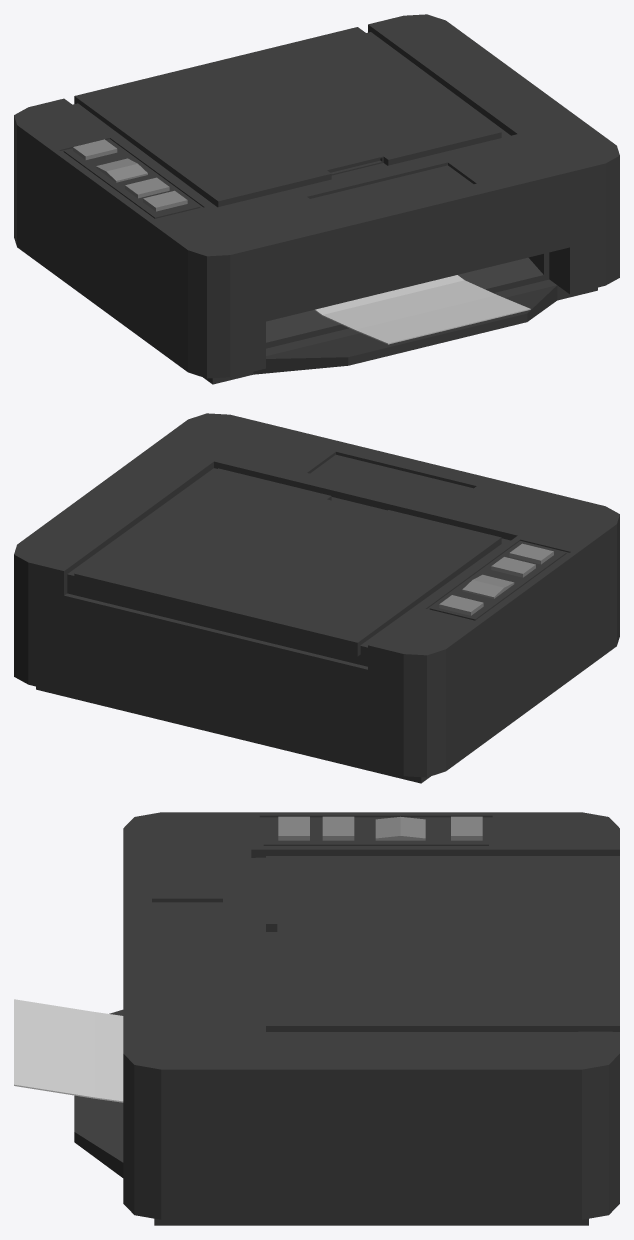
Rendered from PrinterV2.fbx.
3 views of the same model, one above another, from view 1: azimuth 30°, elevation 25°; view 2: azimuth 150°, elevation 25°; view 3: azimuth 270°, elevation 25° (orthographic). The views are drawn at different scales.
Parts seen in each view (by area): view 1: PrinterV2, PrinterV2_Top; view 2: PrinterV2, PrinterV2_Top; view 3: PrinterV2, PrinterV2_Top.
Part boxes in pixels (bbox=[...]): PrinterV2: bbox=[14, 14, 619, 384]; PrinterV2_Top: bbox=[74, 27, 501, 207]; PrinterV2: bbox=[14, 413, 619, 783]; PrinterV2_Top: bbox=[74, 468, 501, 656]; PrinterV2: bbox=[14, 812, 619, 1225]; PrinterV2_Top: bbox=[266, 856, 619, 1031].
Bounding box in the file's own units: 64 × 20.16 × 63.69.
